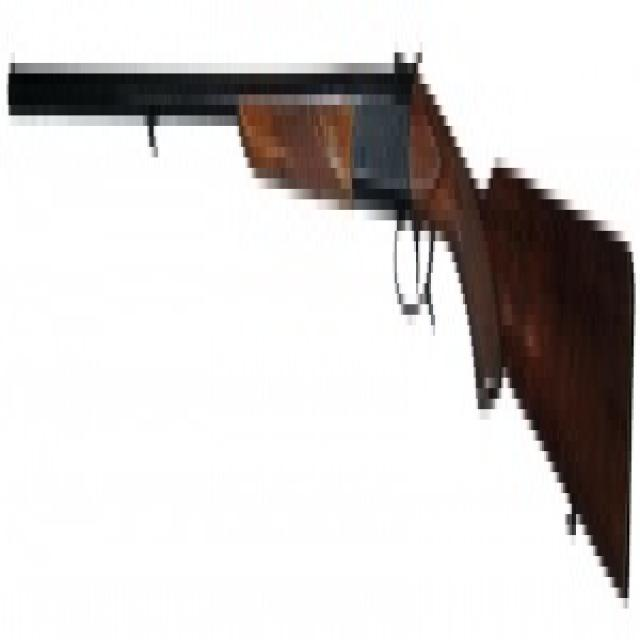rifle: (3, 37, 640, 640)
